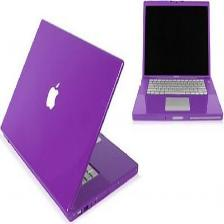purple: (1, 20, 124, 219), (133, 1, 223, 120), (70, 134, 138, 220)
